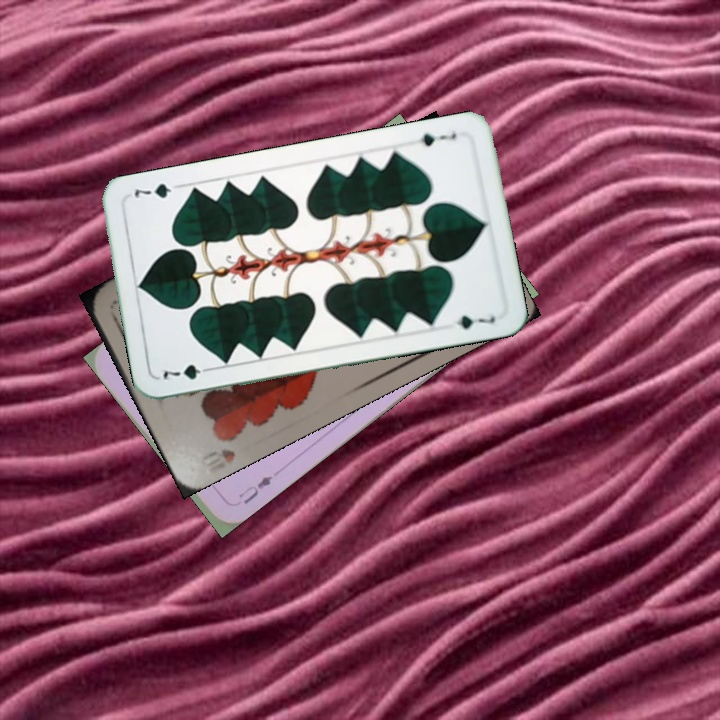EU: (234, 471, 275, 507)
G7: (159, 360, 216, 383), (408, 128, 459, 149)
H10: (196, 444, 238, 475)
